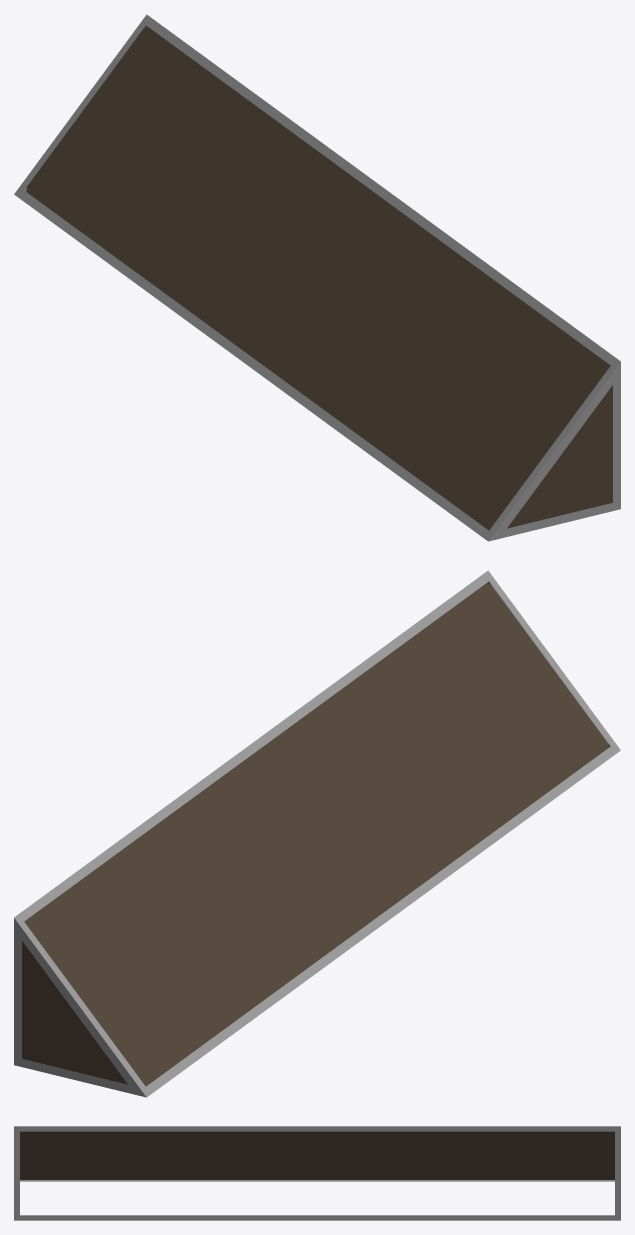
File: Door_Eaves_02.FBX
The picture shows the model from 3 angles, top to bottom: view 1: azimuth 30°, elevation 25°; view 2: azimuth 150°, elevation 25°; view 3: azimuth 270°, elevation 25°; orthographic projection. The views are drawn at different scales.
Parts seen in each view (by area): view 1: Door_Eaves_02_LOD0; view 2: Door_Eaves_02_LOD0; view 3: Door_Eaves_02_LOD0.
Boxes of the visible parts, left/top/right/bottom form: Door_Eaves_02_LOD0: left=14, top=14, right=620, bottom=541; Door_Eaves_02_LOD0: left=14, top=570, right=620, bottom=1097; Door_Eaves_02_LOD0: left=14, top=1126, right=620, bottom=1220.
Size of what is drawn, in the model's own units: 14.54 by 15.46 by 90.
